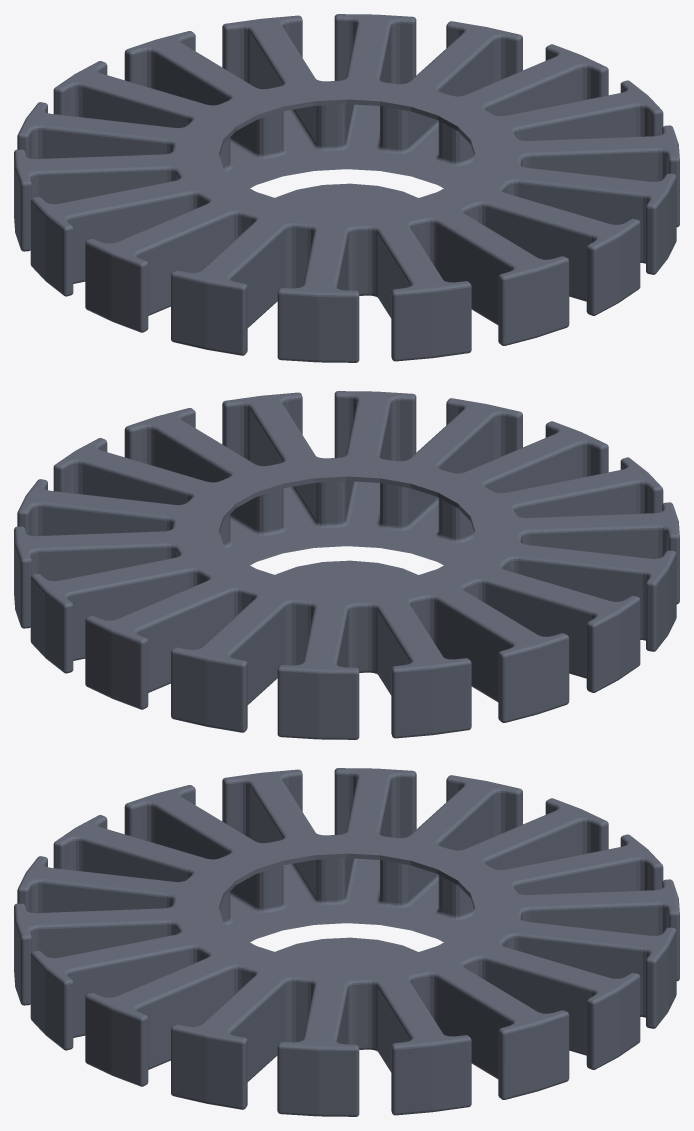
File: solo_upper_leg_right_side_6.obj
3 renders of one model, top to bottom at view 1: azimuth 30°, elevation 25°; view 2: azimuth 150°, elevation 25°; view 3: azimuth 270°, elevation 25°, orthographic.
Size of the model in its own units: 0.039 by 0.0045 by 0.039.
